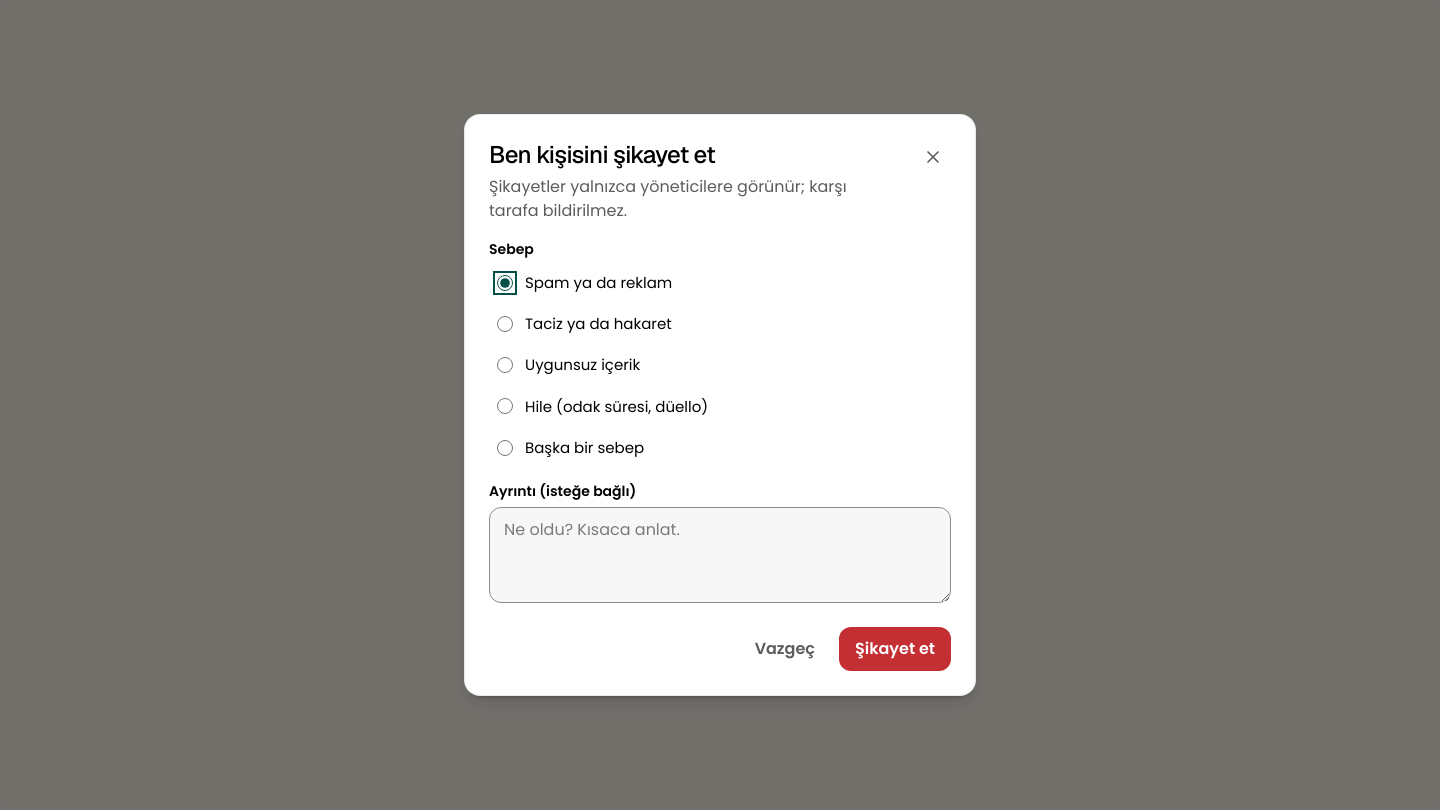
it: ReportDialog › shows the backend error
This screenshot has width=1440, height=810.
Step 1. Click the button "Şikayet et" → (895, 649), box [839,627,951,671]
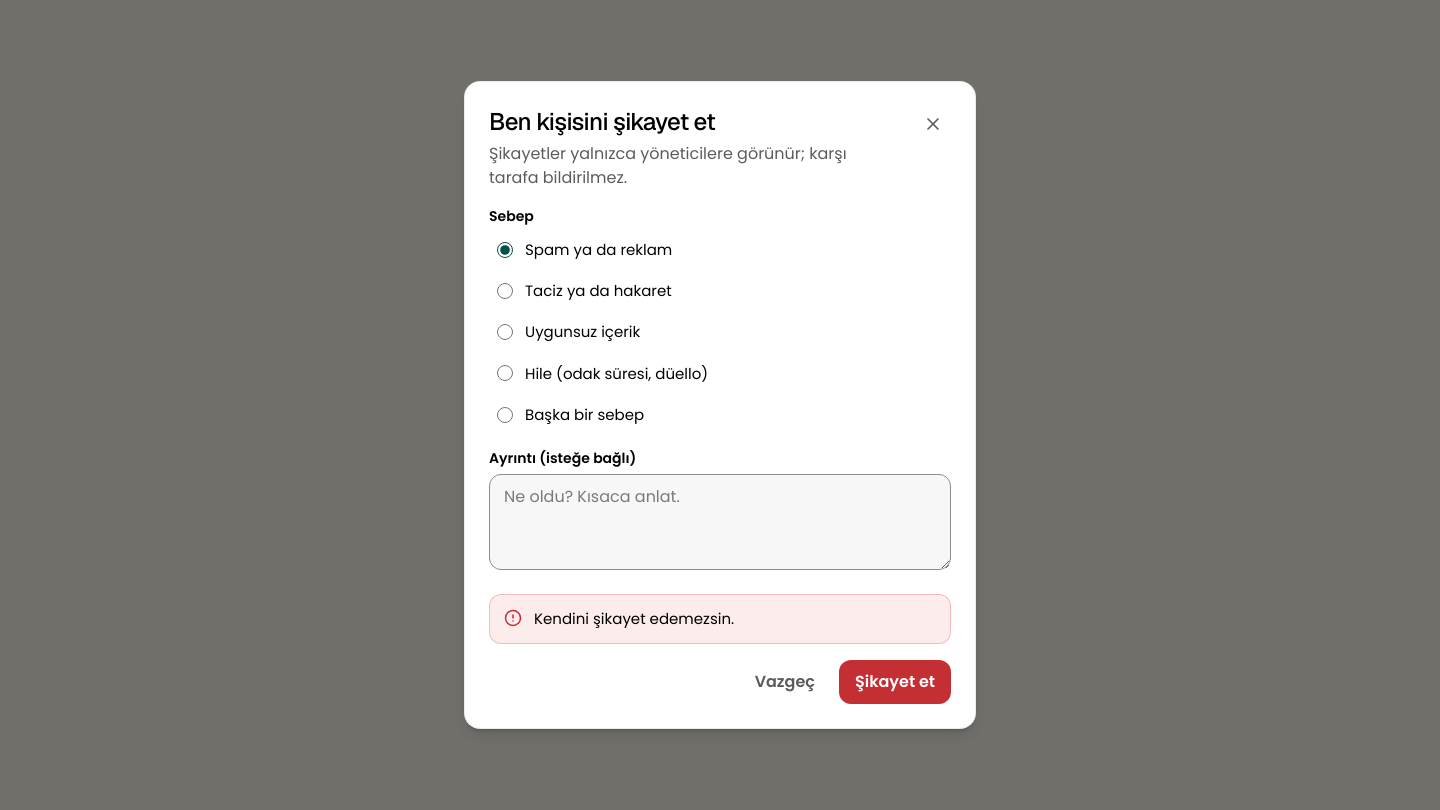
Now the text "Kendini şikayet edemezsin." is shown, box [534,608,734,629]
